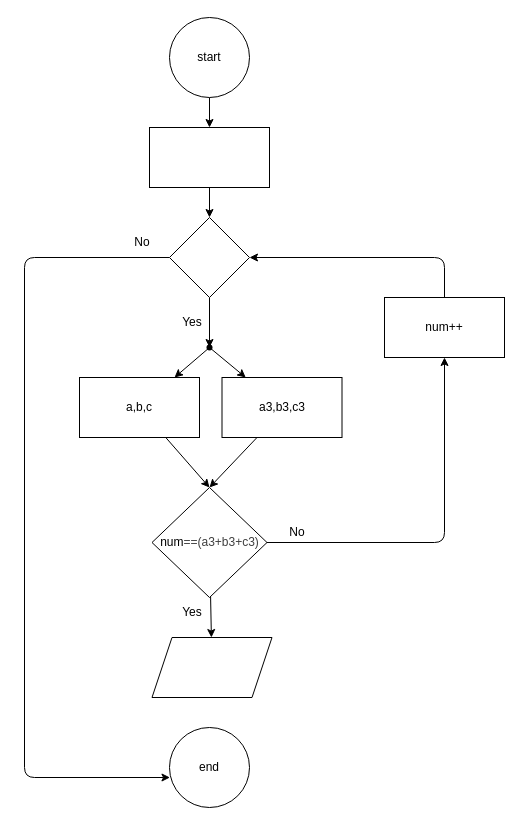
Image size: 522x825. Some labels were removed from this diagram. Each missing label, with the centre of its shape:
"num" belongs at point (209, 157).
"num<1000" belongs at point (209, 257).
"printf" belongs at point (211, 667).
